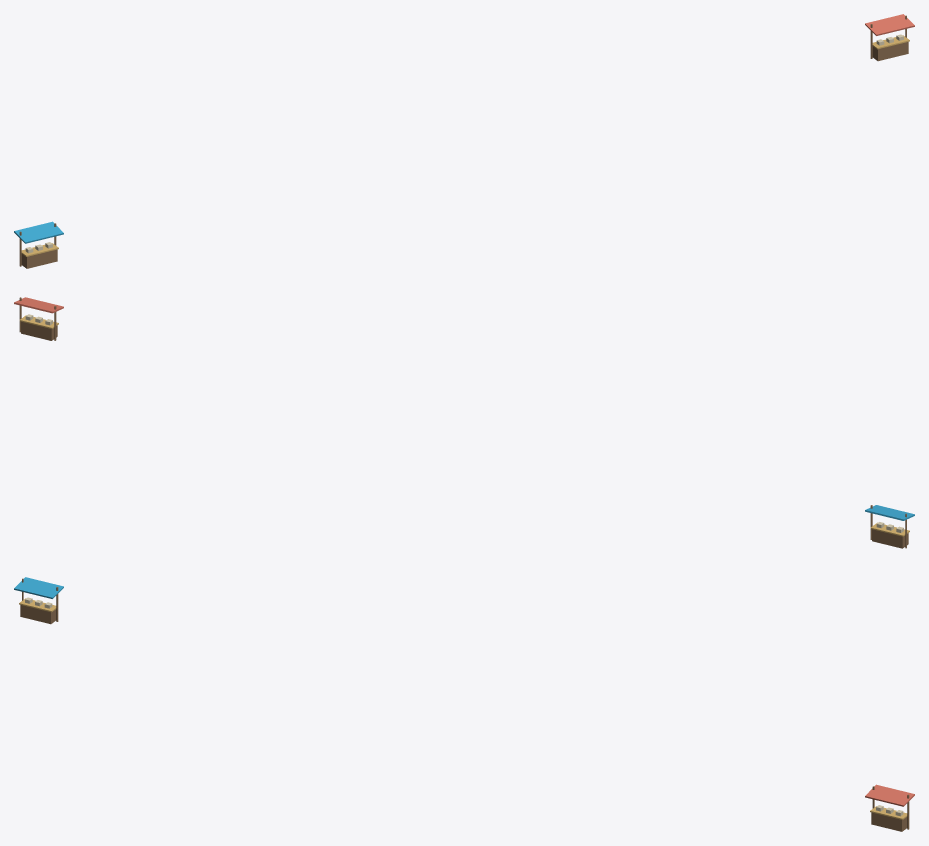
File: SM_R02B_Shop_Props.fbx
The picture shows the model from 3 angles, top to bottom: view 1: azimuth 30°, elevation 25°; view 2: azimuth 150°, elevation 25°; view 3: azimuth 330°, elevation 25°; orthographic projection.
Parts seen in each view (by area): view 1: SM_R02B_Shop_Props; view 2: SM_R02B_Shop_Props; view 3: SM_R02B_Shop_Props.
Boxes of the visible parts, left/top/right/bottom form: SM_R02B_Shop_Props: left=14, top=14, right=914, bottom=268; SM_R02B_Shop_Props: left=14, top=297, right=914, bottom=548; SM_R02B_Shop_Props: left=14, top=577, right=914, bottom=831.
Size of the model in its own units: 89.9 by 2 by 3.3.
